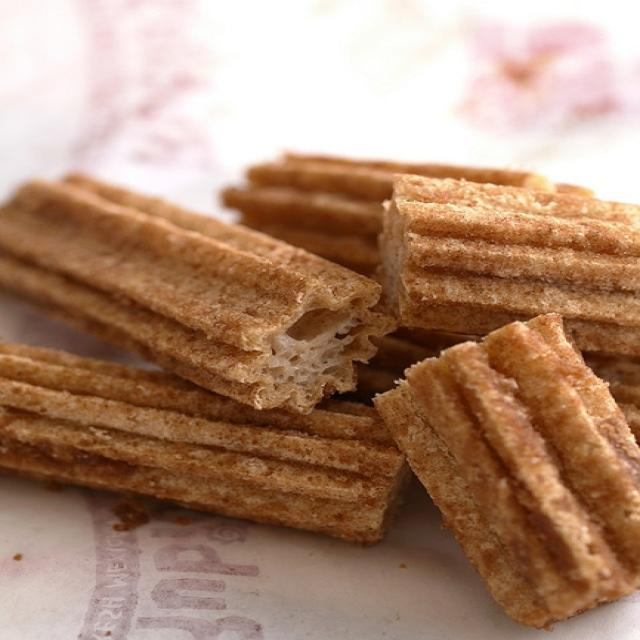炸货点心: (12, 82, 625, 610)
